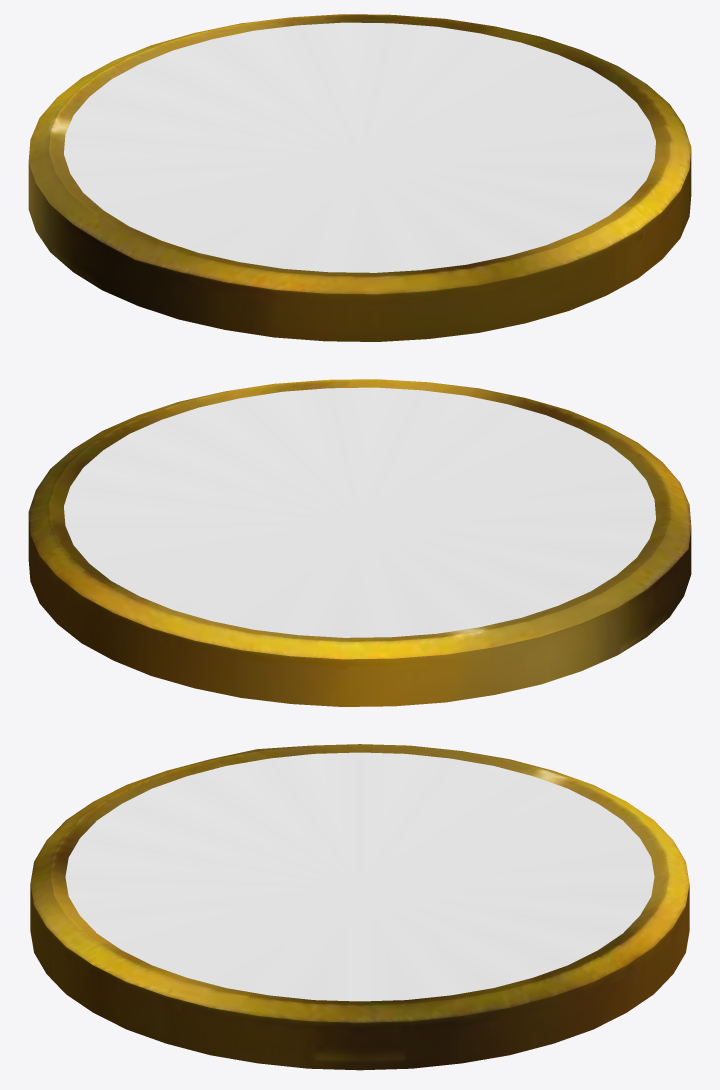
File: timer.glb
The picture shows the model from 3 angles, top to bottom: view 1: azimuth 30°, elevation 25°; view 2: azimuth 150°, elevation 25°; view 3: azimuth 270°, elevation 25°; orthographic projection.
Parts seen in each view (by area): view 1: Timer_1_850e, Timer_0_850e; view 2: Timer_1_850e, Timer_0_850e; view 3: Timer_1_850e, Timer_0_850e.
Part boxes in pixels (box(x1,y1,x2,y2)): Timer_1_850e: box(64, 22, 655, 272); Timer_0_850e: box(28, 14, 691, 341); Timer_1_850e: box(64, 387, 655, 637); Timer_0_850e: box(28, 379, 691, 706); Timer_1_850e: box(65, 752, 654, 1001); Timer_0_850e: box(30, 744, 689, 1070).
Bounding box in the file's own units: 6.69 × 0.6255 × 6.69.
Materials: 2 (1 with a texture image).
